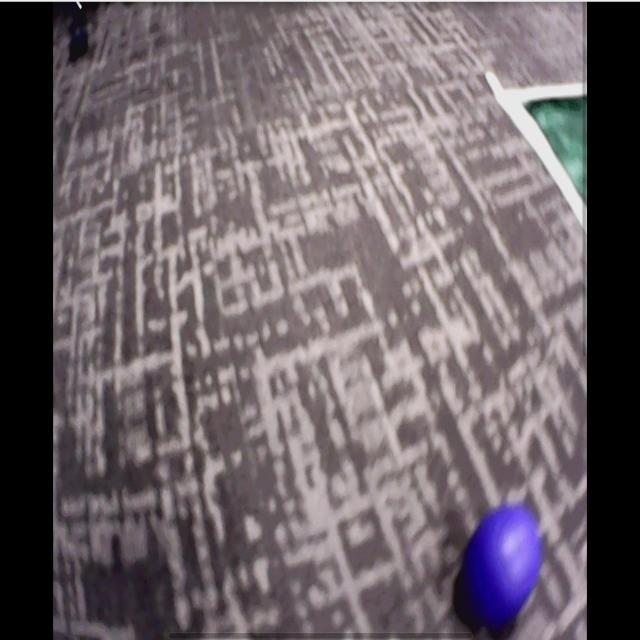ball: (471, 508, 544, 624)
